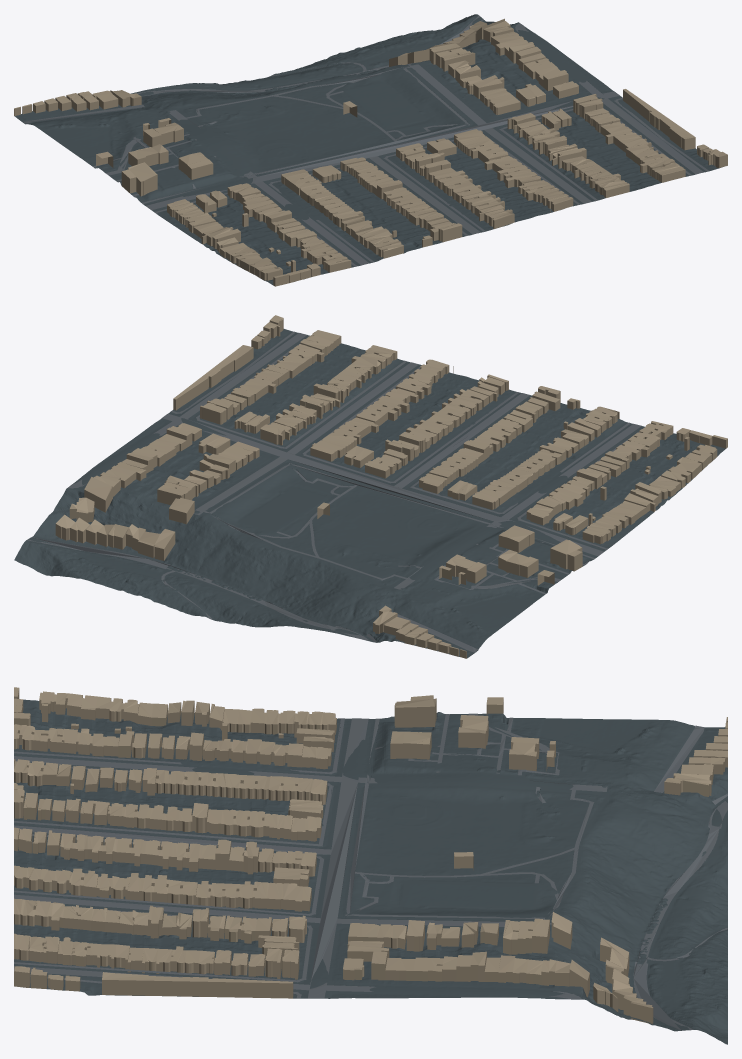
The model's file is epsg26910-1420-10877.lod0.glb.
3 renders of one model, top to bottom at view 1: azimuth 30°, elevation 25°; view 2: azimuth 150°, elevation 25°; view 3: azimuth 270°, elevation 25°, orthographic. The views are drawn at different scales.
Parts seen in each view (by area): view 1: epsg26910-1420-10877-lod0; view 2: epsg26910-1420-10877-lod0; view 3: epsg26910-1420-10877-lod0.
Boxes of the visible parts, left/top/right/bottom form: epsg26910-1420-10877-lod0: left=14, top=14, right=727, bottom=286; epsg26910-1420-10877-lod0: left=14, top=315, right=727, bottom=658; epsg26910-1420-10877-lod0: left=14, top=687, right=727, bottom=1044.
Bounding box in the file's own units: 384 × 53.16 × 384.
